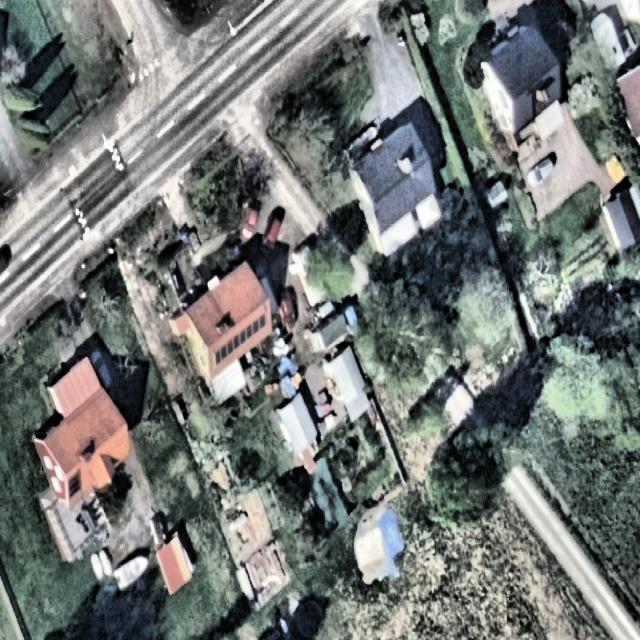roof_pv: (211, 311, 269, 370)
